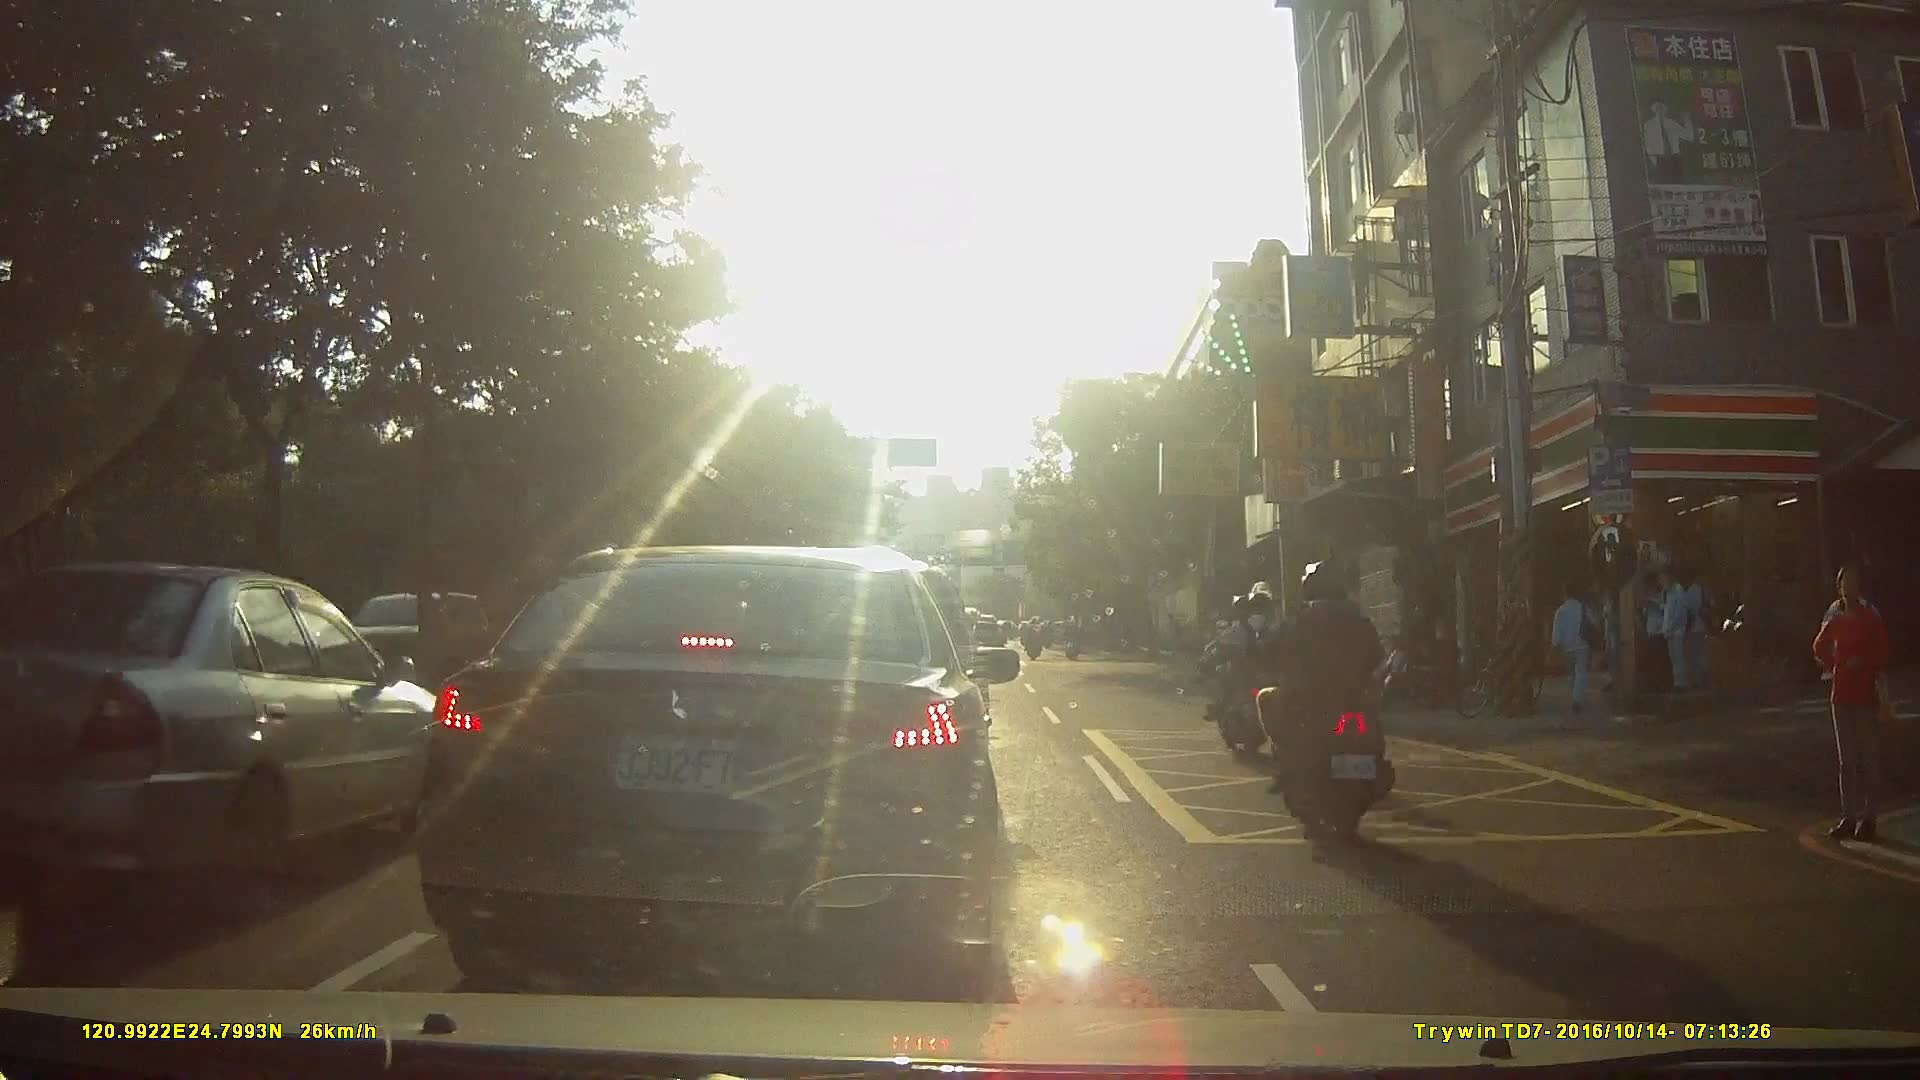pedestrian: (1812, 567, 1900, 848), (1816, 579, 1875, 776), (1550, 579, 1603, 715), (1649, 568, 1690, 697), (1636, 569, 1675, 703), (1677, 563, 1715, 692), (1604, 577, 1633, 709)
rider: (1259, 563, 1398, 840), (1201, 584, 1296, 758), (1063, 616, 1085, 664), (1024, 614, 1046, 664)
vehicle: (428, 538, 1039, 982), (21, 550, 458, 911)
